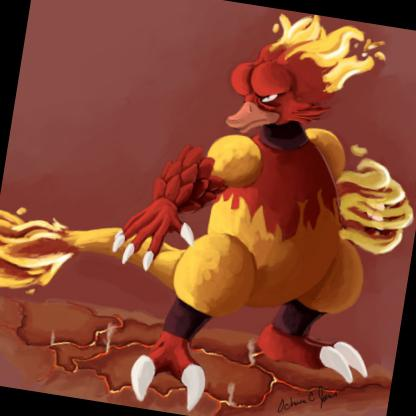Magmar: (40, 1, 416, 416)
